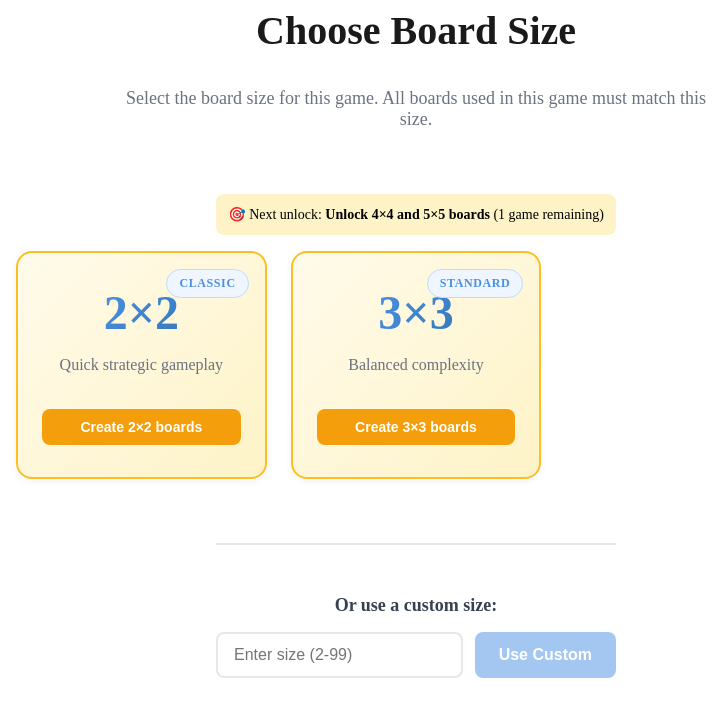
Test: BoardSizeSelector › Custom Size Input › should show error for locked size
The width and height of the screenshot is (723, 722).
Type "5" into the number field with placeholder "Enter size (2-99)" at (339, 655), box 216,632 -> 463,678
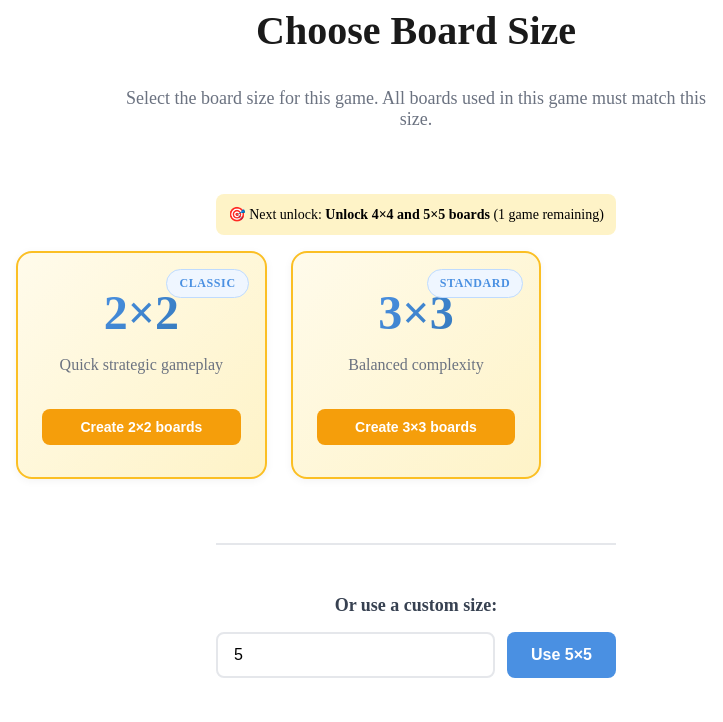
Click the button "Use Custom" at (562, 655), box 507,632 -> 616,678
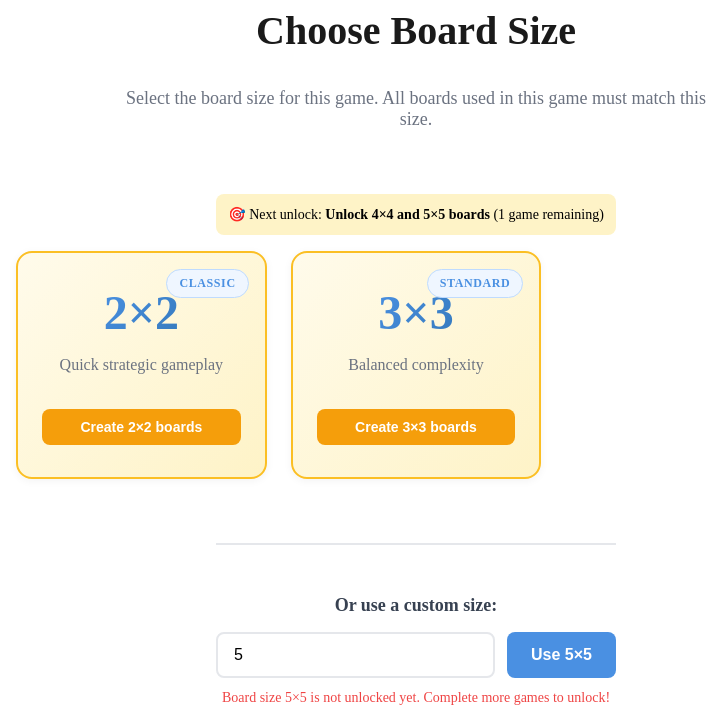
Result: the text "not unlocked yet" is shown at 222,690 -> 610,705
